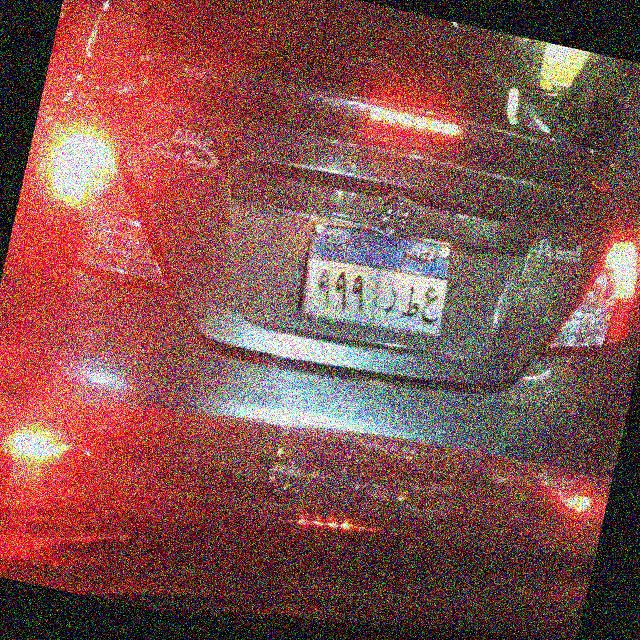License Plate: (290, 211, 464, 350)
